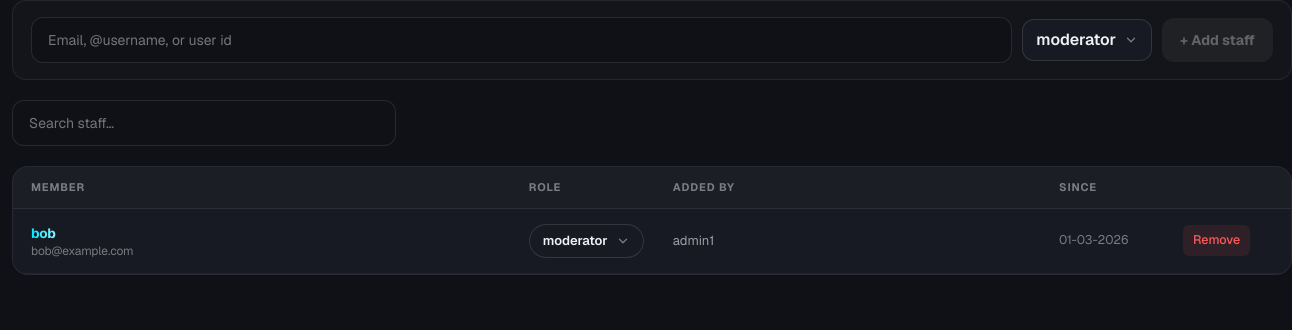
Test case: StaffTab › shows an error when the role change is rejected
The width and height of the screenshot is (1292, 330).
Check: the text "bob" is shown, box [31,222,56,243]
Click the button "Remove": (1217, 241) [1183,225,1250,256]
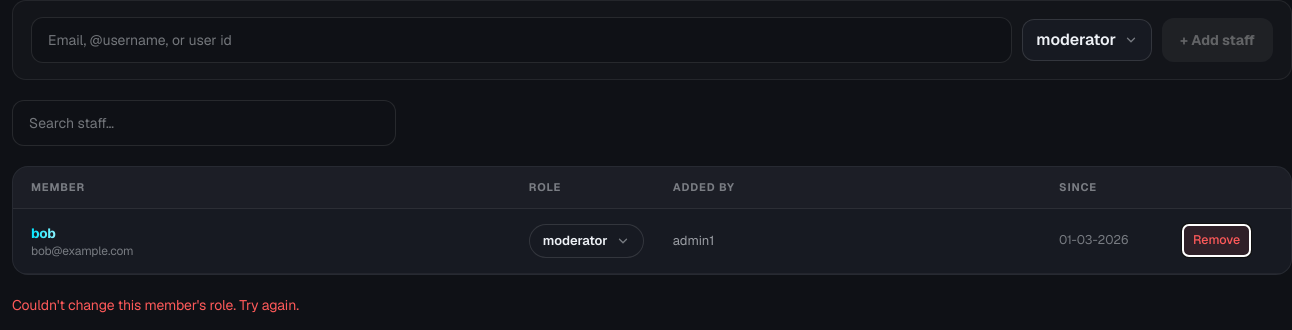
Check: the text "Couldn't change this member's role. Try again." is shown, box [12,296,299,314]
